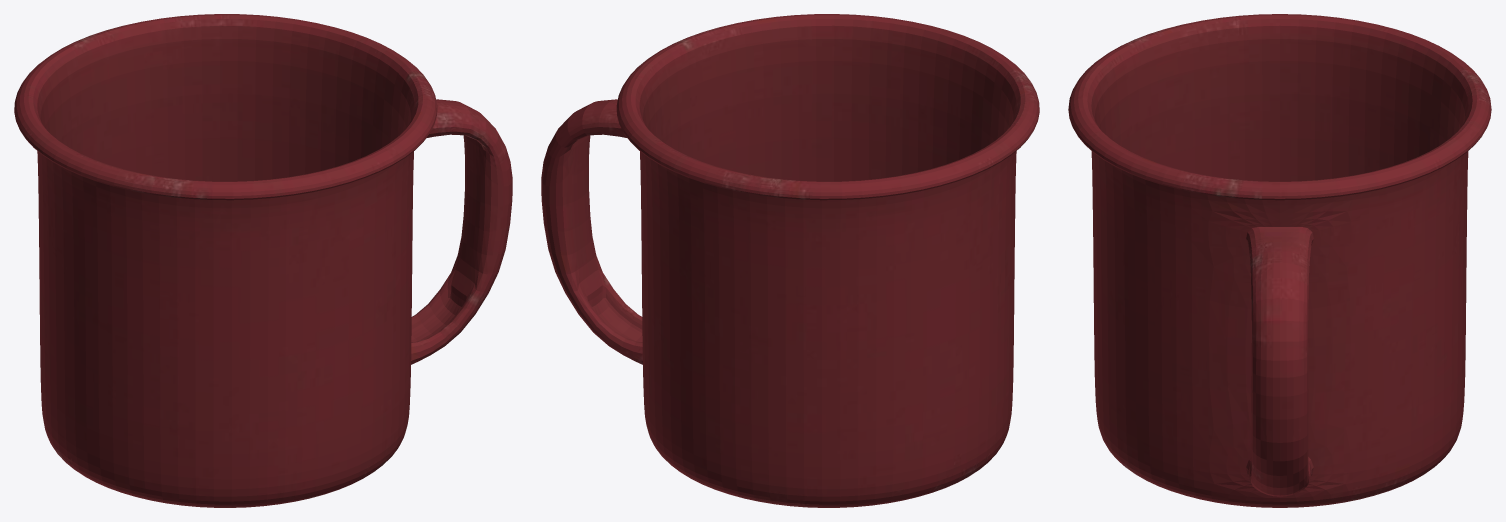
The picture shows the model from 3 angles, left to right: view 1: azimuth 30°, elevation 25°; view 2: azimuth 150°, elevation 25°; view 3: azimuth 270°, elevation 25°; orthographic projection.
Parts seen in each view (by area): view 1: part_00; view 2: part_00; view 3: part_00.
Boxes of the visible parts, left/top/right/bottom form: part_00: left=14, top=14, right=512, bottom=507; part_00: left=541, top=14, right=1039, bottom=507; part_00: left=1068, top=14, right=1491, bottom=507.
Bounding box in the file's own units: 0.1144 × 0.08 × 0.0902.
1 material, 1 textured.
